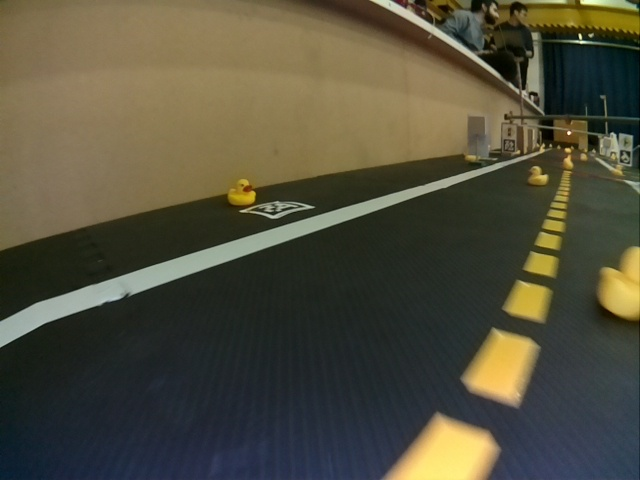Duckie: (598, 247, 639, 318), (227, 179, 254, 204), (527, 166, 548, 183), (563, 159, 573, 169)
QR code: (241, 201, 315, 219)
